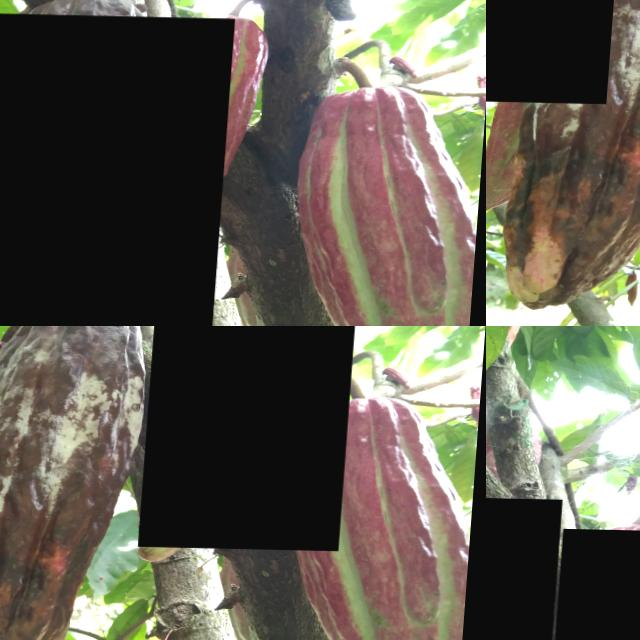Monilia: (486, 494, 565, 640)
Sana: (0, 12, 238, 326), (144, 326, 366, 548), (486, 0, 622, 103), (553, 527, 640, 640)
